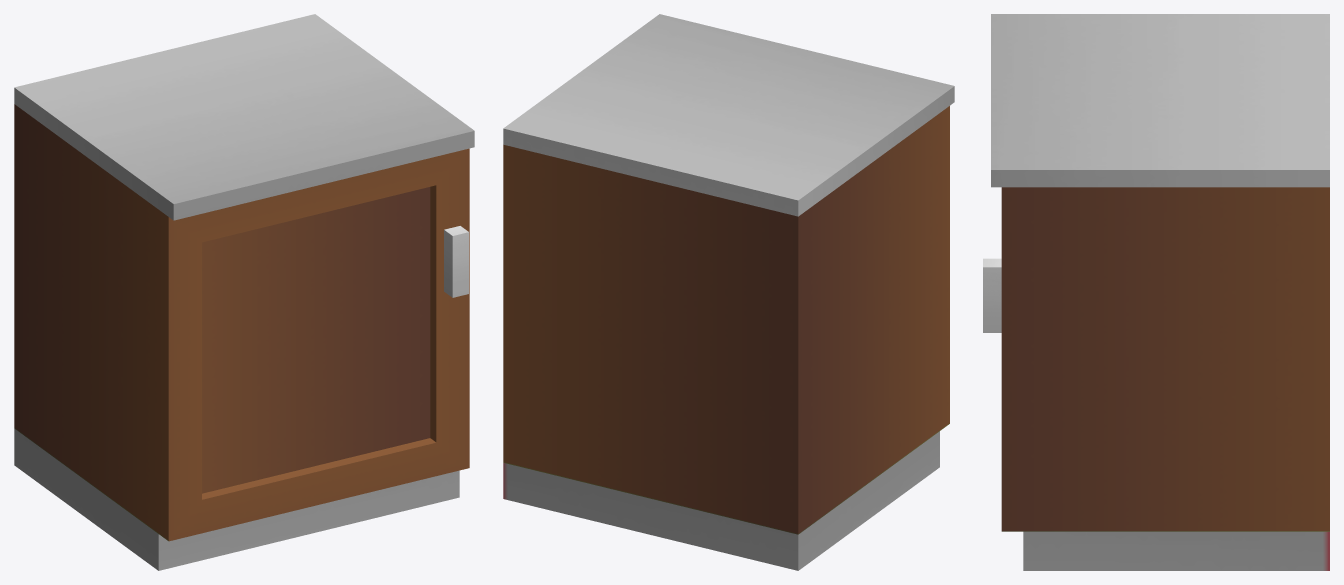
The model's file is Counter1.FBX.
3 views of the same model, side by side, from view 1: azimuth 30°, elevation 25°; view 2: azimuth 150°, elevation 25°; view 3: azimuth 270°, elevation 25° (orthographic). The views are drawn at different scales.
Visible parts, largest first — view 1: Counter; view 2: Counter; view 3: Counter.
Boxes of the visible parts, <box> form: Counter: <box>14,14,474,570</box>; Counter: <box>503,14,954,570</box>; Counter: <box>983,14,1329,570</box>.
Bounding box in the file's own units: 70 × 83.96 × 65.78.
Materials: 1 (1 with a texture image).
